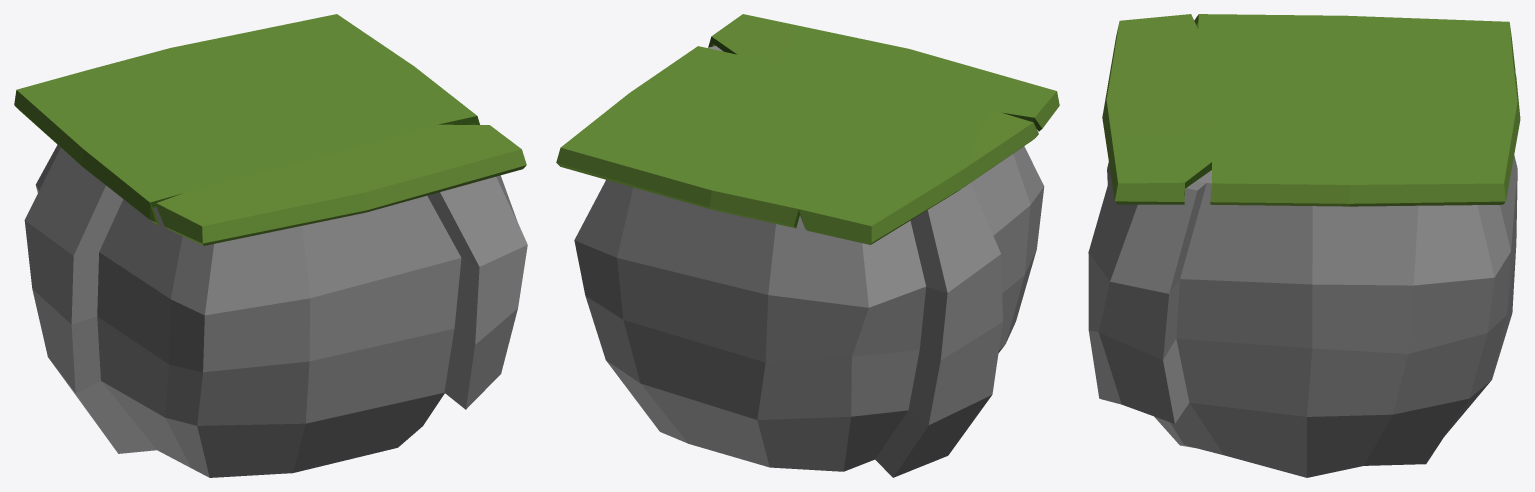
The model's file is rock_top1.glb.
3 renders of one model, left to right at view 1: azimuth 30°, elevation 25°; view 2: azimuth 150°, elevation 25°; view 3: azimuth 270°, elevation 25°, orthographic. The views are drawn at different scales.
Visible parts, largest first — view 1: GrassTop1.001; view 2: GrassTop1.001; view 3: GrassTop1.001.
Part boxes in pixels (x1,y1,x2,y2): GrassTop1.001: (14,14,527,477); GrassTop1.001: (556,14,1059,477); GrassTop1.001: (1088,14,1520,477).
Size of the model in its own units: 2.21 by 1.75 by 2.1.
Materials: 1 (1 with a texture image).
